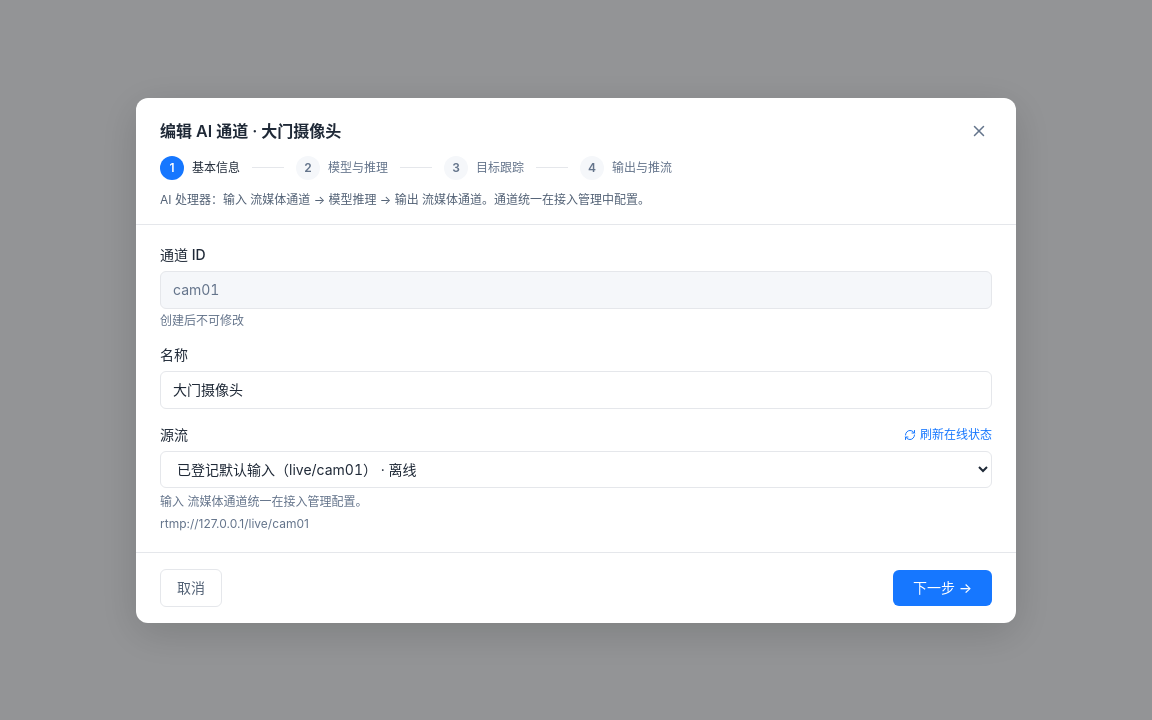
Test: AiChannelWizard › tracking explains configured sampling without promising accurate counts (5 FPS)
This screenshot has width=1152, height=720.
Click the button "下一步 →". click: (942, 588)
box: [893,570,992,606]
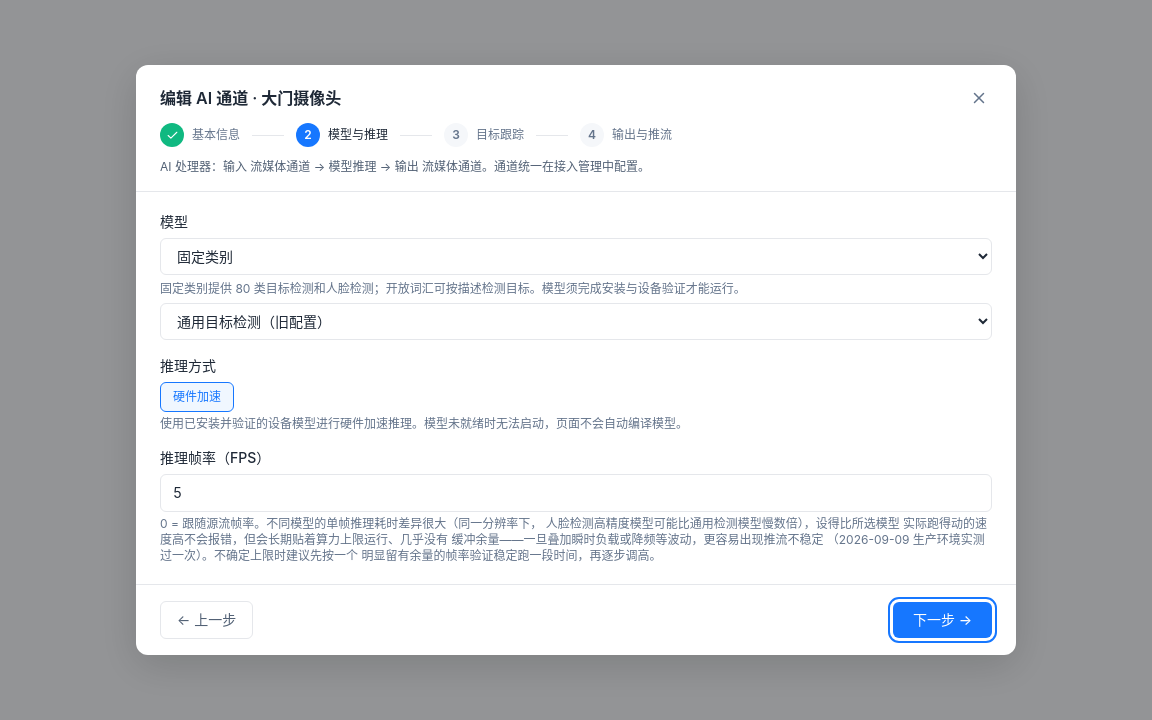
Click the button "下一步 →". click: (942, 620)
box: [893,602,992,638]
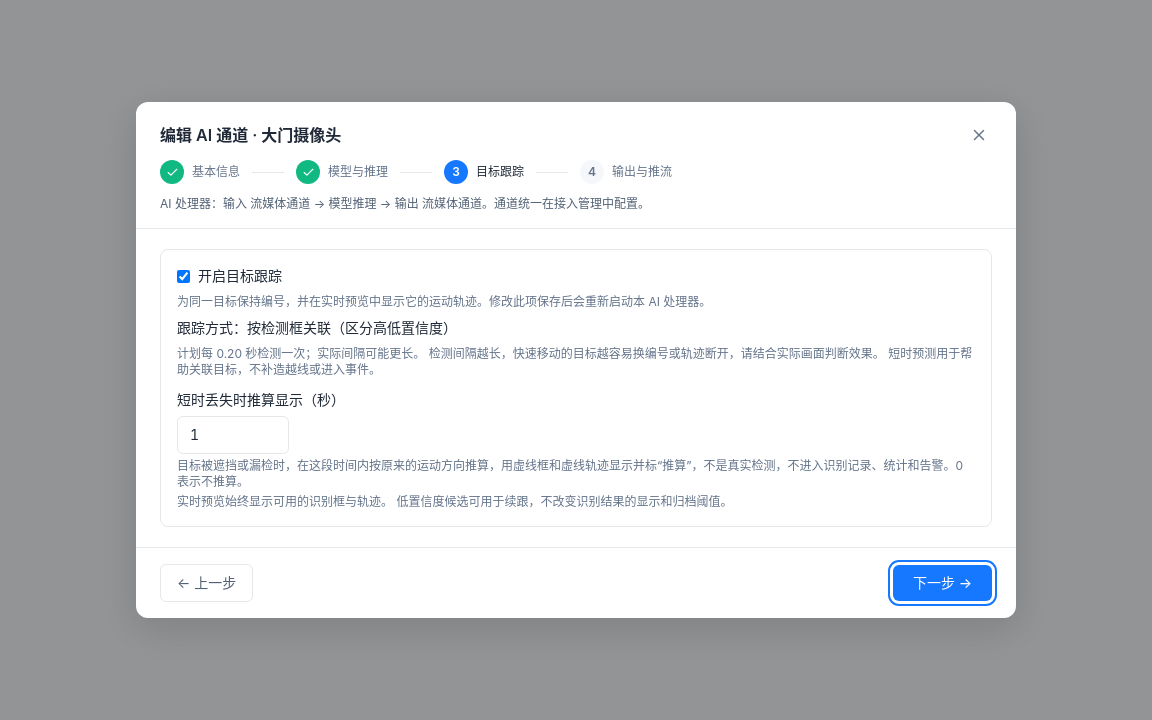
Now the text with test id "tracking-sampling-guidance" shows "0.20 秒", box [177,346,425,361]
Now the text with test id "tracking-sampling-guidance" shows "不补造越线或进入事件", box [177,346,972,377]
Click the checkbox labelled "开启目标跟踪". click: (184, 276)
box: [177,270,190,282]
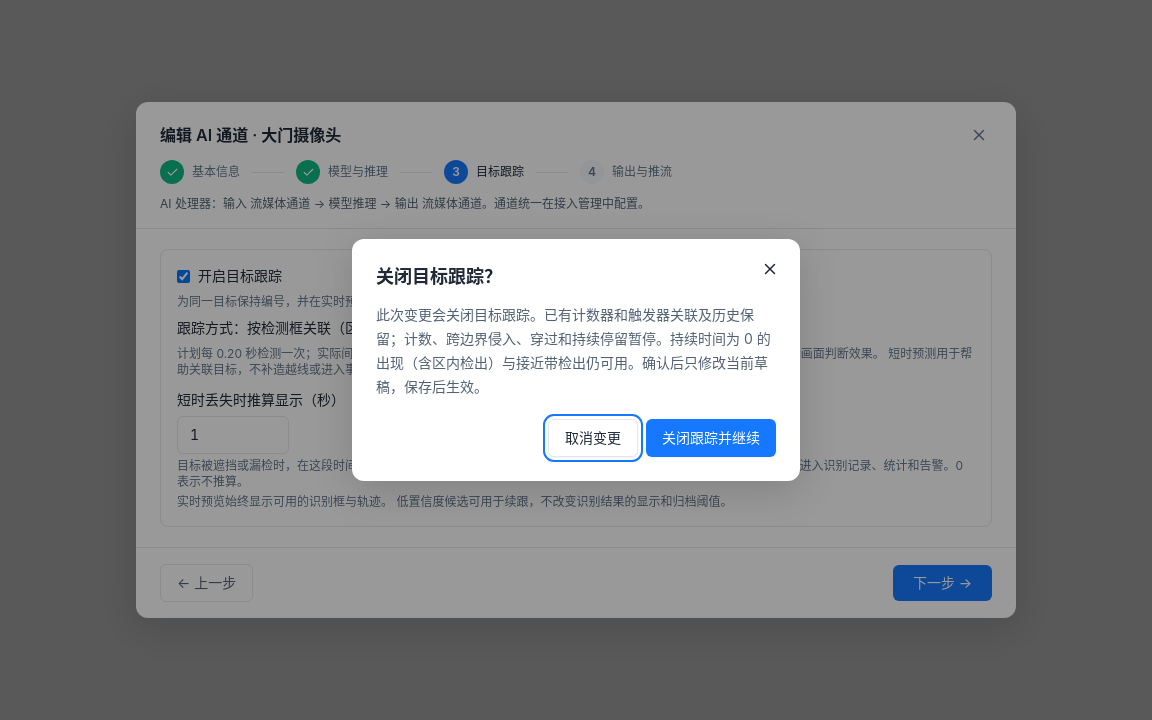
Click the button "关闭跟踪并继续". click: (711, 438)
box: [646,419,776,457]
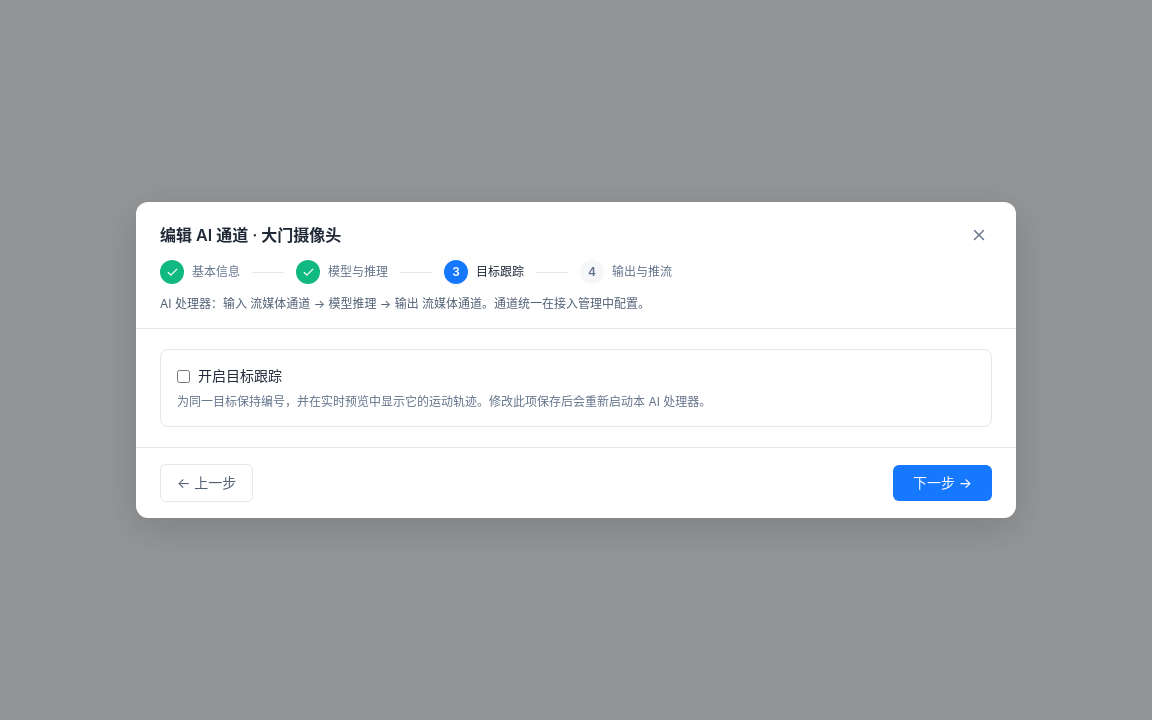
Now the text with test id "tracking-sampling-guidance" is gone
